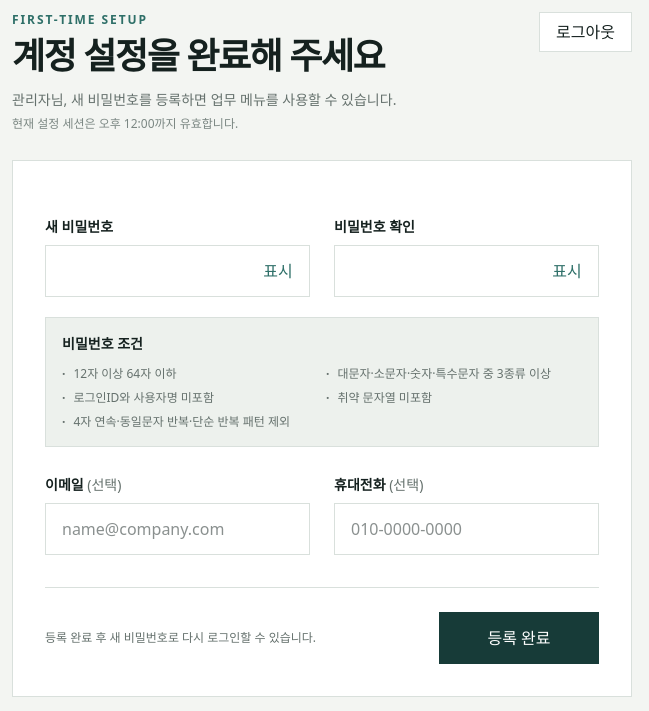
Test: InitialRegistrationForm › 서버 필드 오류와 추적ID를 화면에 표시한다
Type "Safe!Tiger9#River" into the password field labelled "새 비밀번호". click: (178, 271)
box: [45, 245, 310, 297]
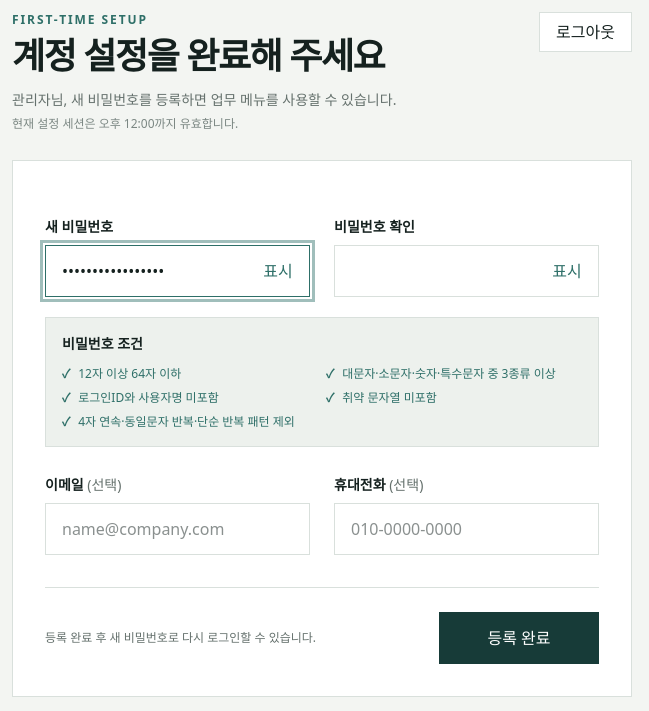
Type "Safe!Tiger9#River" into the password field labelled "비밀번호 확인". click: (466, 271)
box: [334, 245, 599, 297]
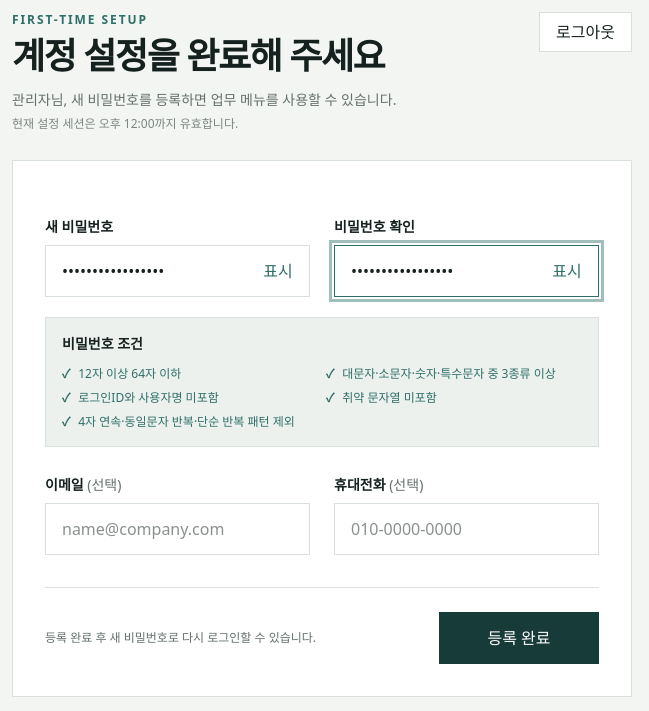
Click the button "등록 완료". click: (519, 638)
box: [439, 612, 599, 664]
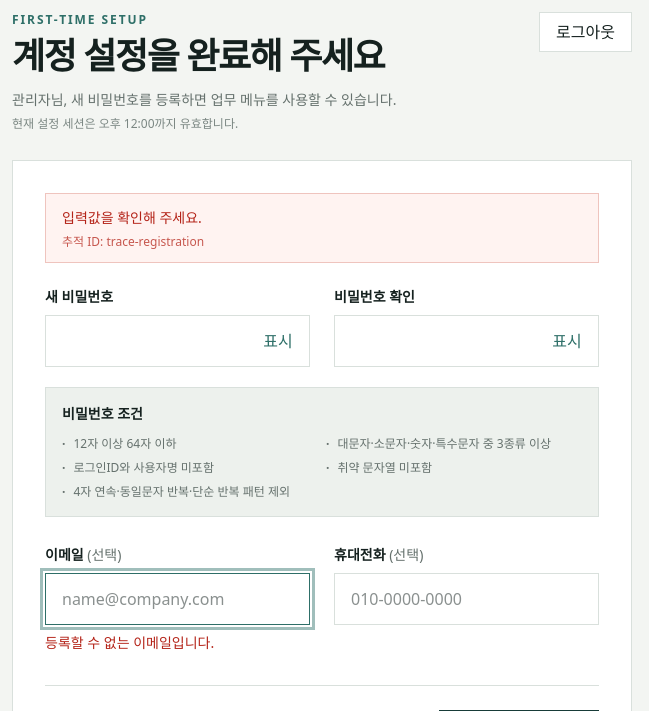
Expected: the text "등록할 수 없는 이메일입니다." is shown, [45, 633, 214, 652]
Expected: the text "추적 ID: trace-registration" is shown, [62, 233, 204, 250]
